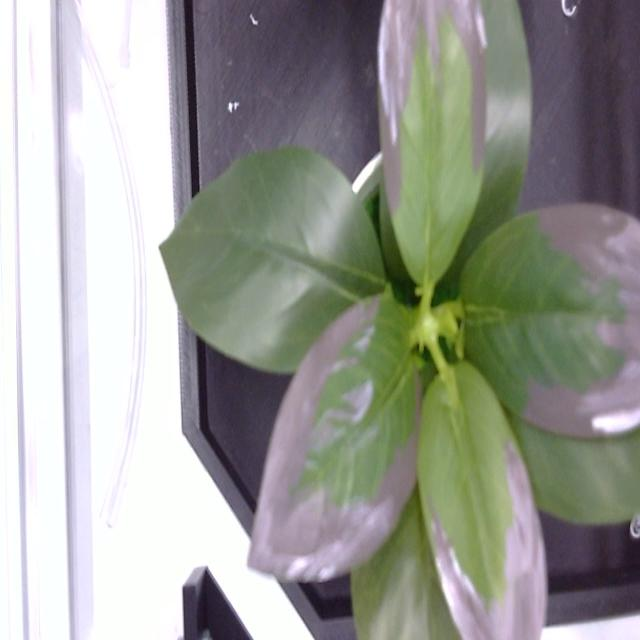Brown: (249, 294, 420, 580), (460, 204, 640, 439), (420, 361, 542, 639), (379, 0, 486, 287)
Green: (160, 148, 385, 372)
